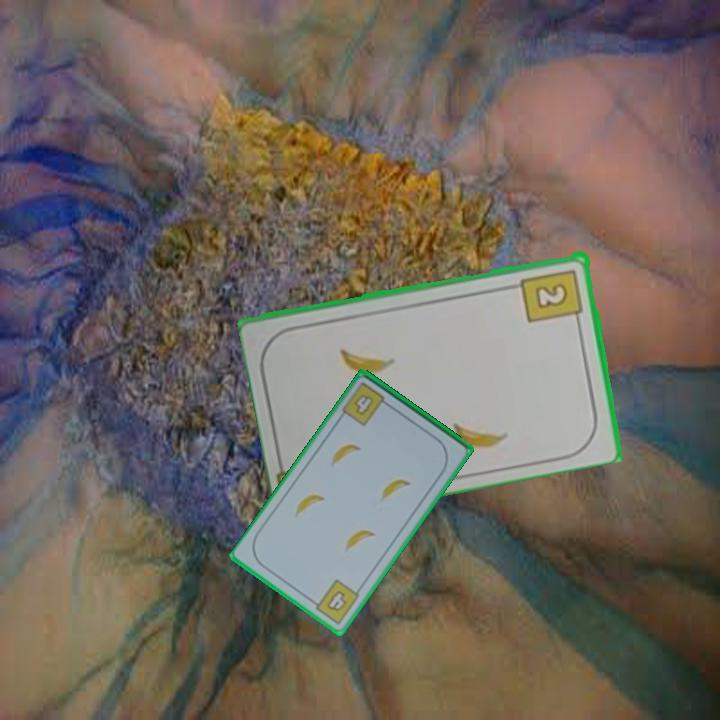2b: (518, 265, 586, 326)
4b: (307, 576, 362, 628), (341, 379, 394, 429)
